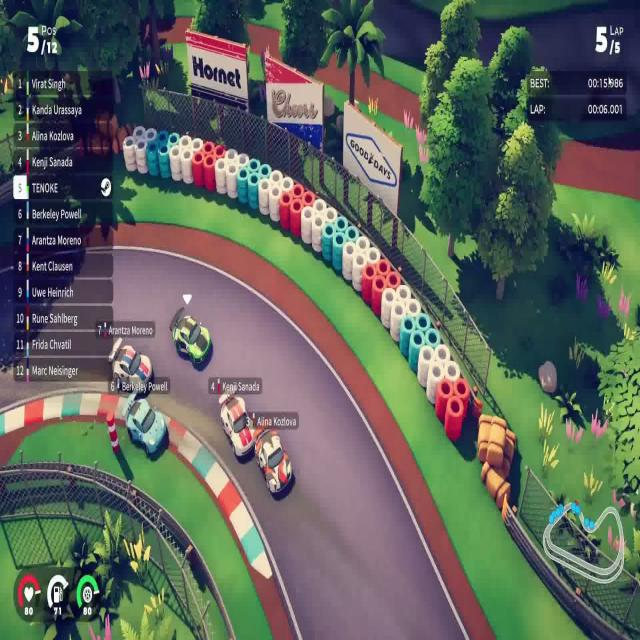car: (124, 396, 168, 458), (218, 390, 256, 460), (254, 427, 292, 495), (110, 342, 154, 396), (171, 312, 211, 367)
